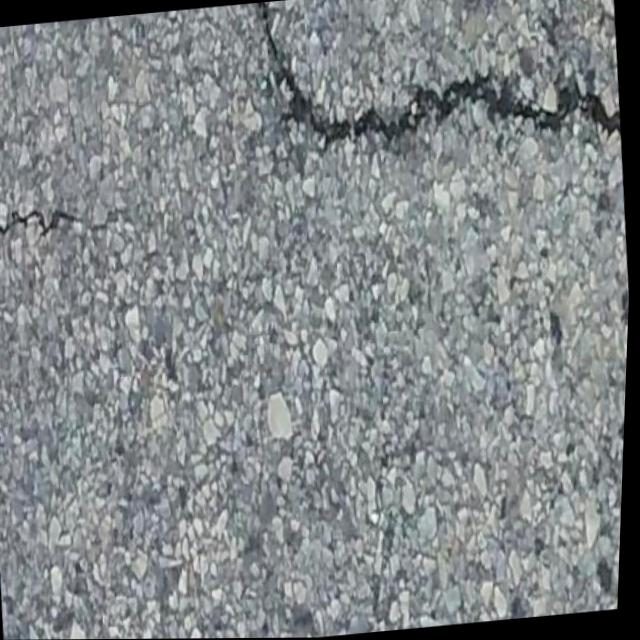Crack: (307, 32, 628, 209), (0, 190, 95, 248)
